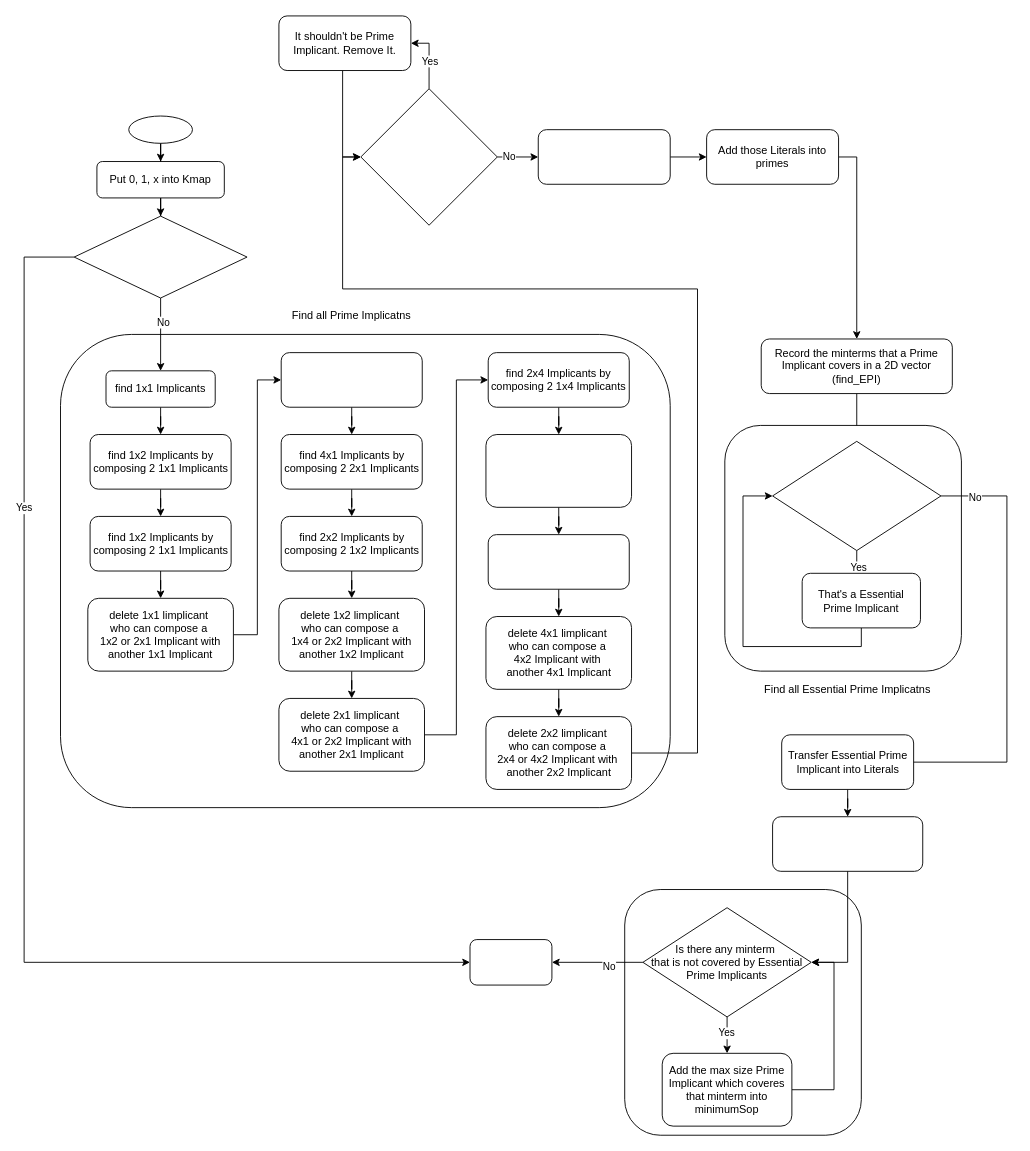
This 1030x1151 diagram has some shape labels left out. The centre of each missing label's shape, as x and y in pixels:
Add those Literals into essential and minimumSop: (x=847, y=843)
delete 1x4 limplicant who can compose a 2x4 Implicant with another 1x2 Implicant: (x=558, y=470)
End: (x=510, y=962)
find 1x4 Implicants by composing 2 1x2 Implicants: (x=351, y=379)
find 4x2 Implicants by composing 2 4x1 Implicants: (x=558, y=561)
is edge cases? (all 1 + x) or (all 0 + x): (x=160, y=256)
Is there any postion in find_EPI has only 1 Prime Implicant: (x=856, y=495)
is there any Prime Implicant all made of don't care terms: (x=428, y=156)
Start: (x=160, y=129)
Transfer Prime Implicants into Literals: (x=603, y=156)
